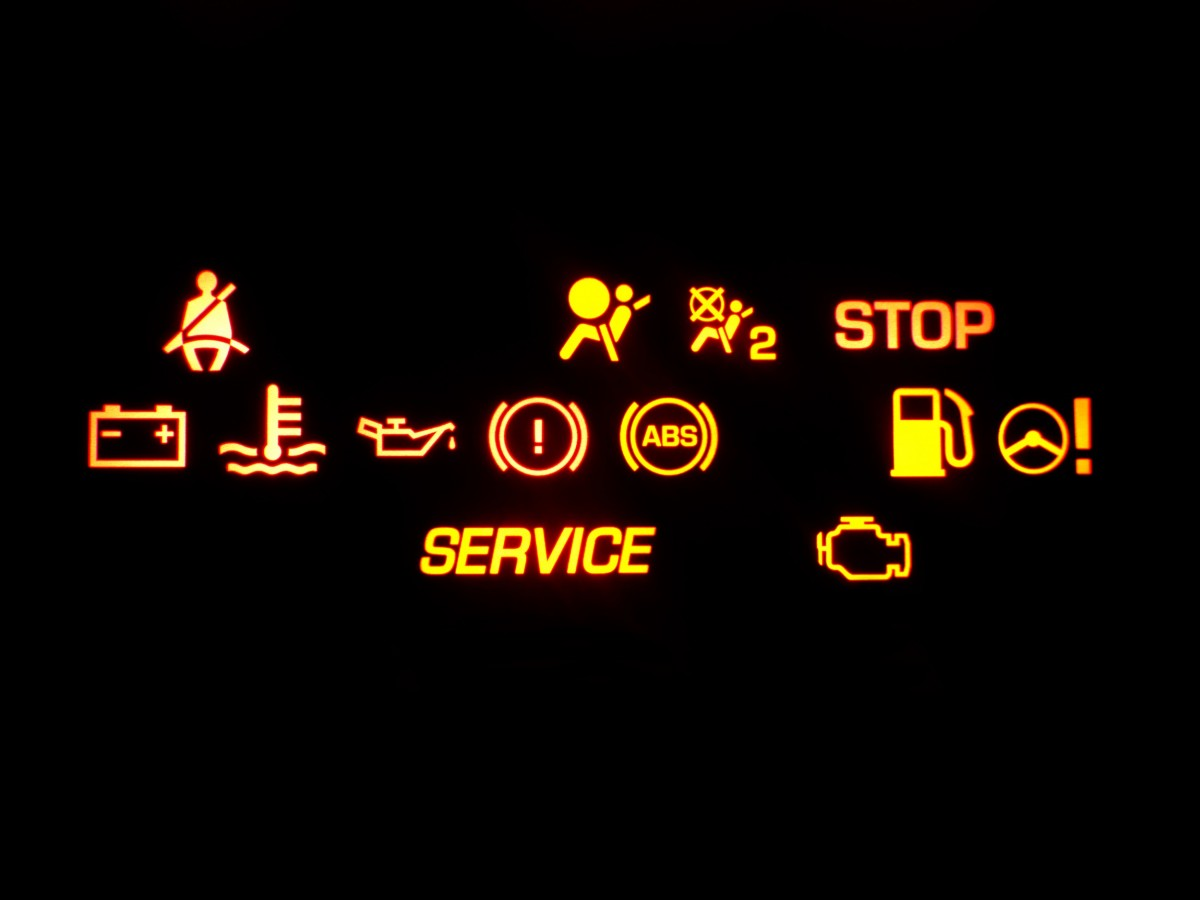ABS: (613, 392, 728, 486)
